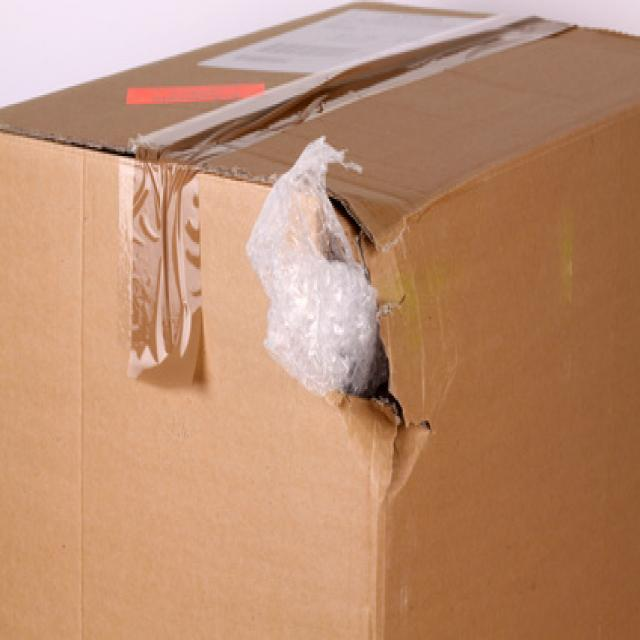damaged: (360, 340, 434, 451)
